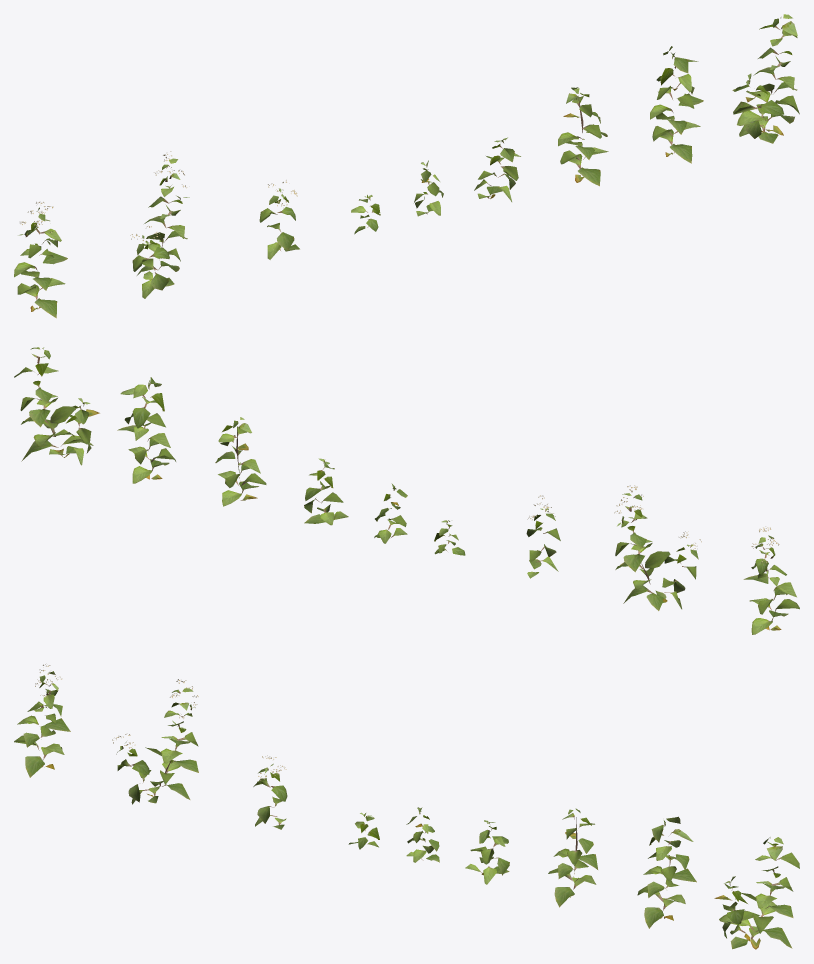
File: shrub_01.glb
3 views of the same model, one above another, from view 1: azimuth 30°, elevation 25°; view 2: azimuth 150°, elevation 25°; view 3: azimuth 330°, elevation 25° (orthographic). The views are drawn at different scales.
Visible parts, largest first — view 1: shrub_01_a; view 2: shrub_01_a; view 3: shrub_01_a.
Boxes of the visible parts, x1,y1,x2,y2 form: shrub_01_a: (14, 14, 799, 318); shrub_01_a: (14, 347, 799, 634); shrub_01_a: (14, 664, 799, 949).
Bounding box in the file's own units: 2.59 × 0.397 × 0.213.
Materials: 1 (1 with a texture image).
